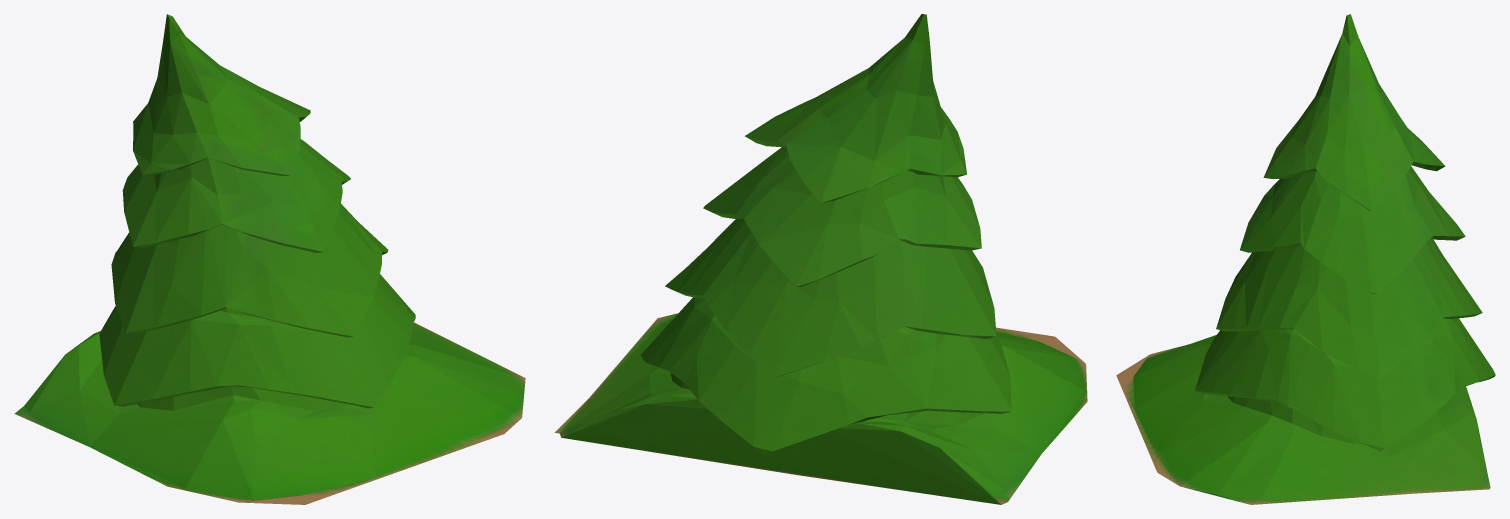
Rendered from pine_3.glb.
The picture shows the model from 3 angles, left to right: view 1: azimuth 30°, elevation 25°; view 2: azimuth 150°, elevation 25°; view 3: azimuth 270°, elevation 25°; orthographic projection. The views are drawn at different scales.
Parts seen in each view (by area): view 1: pine3; view 2: pine3; view 3: pine3.
Part boxes in pixels (x1,y1,x2,y2): pine3: (14,14,525,504); pine3: (554,14,1087,504); pine3: (1116,14,1495,504).
Size of the model in its own units: 2.83 by 2.6 by 2.47.
Materials: 1 (1 with a texture image).
